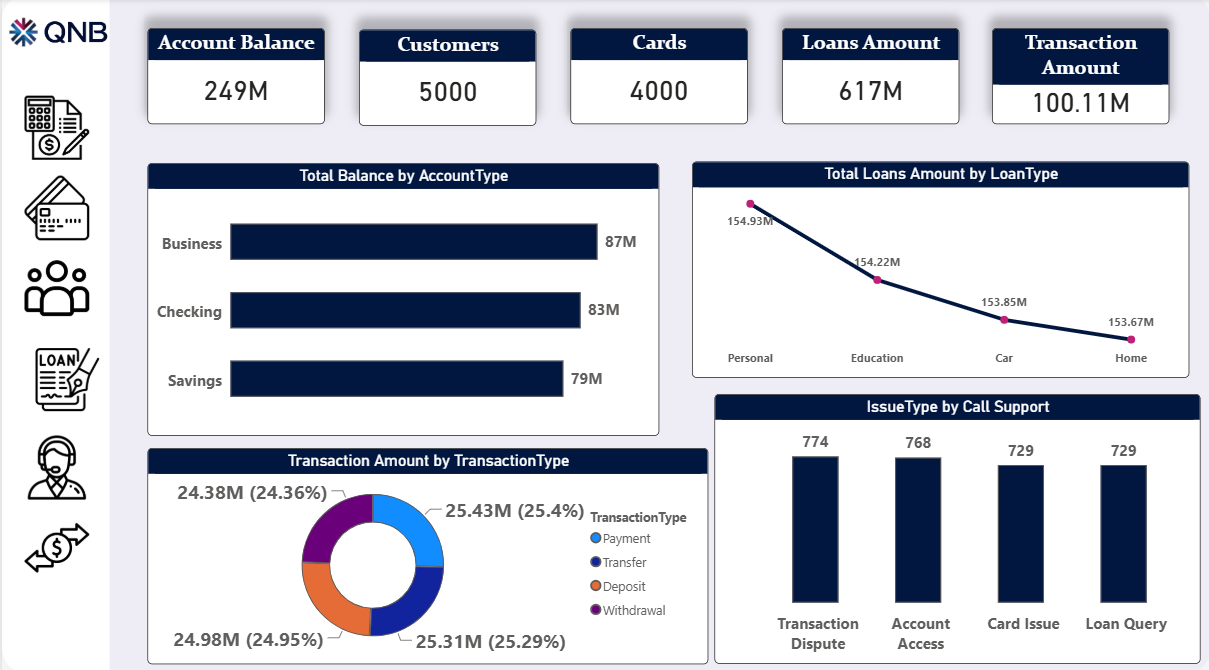

The page's visual inventory and layout, read from the dashboard file:
{"tool":"powerbi","page":{"name":"Overview","canvas":[1280,720],"ordinal":1},"visuals":[{"type":"image","box":[0,0,117.7,77.9],"z":0},{"type":"image","box":[23.9,100.2,68.4,74.8],"z":1000},{"type":"image","box":[23.9,175,68.4,95.4],"z":2000},{"type":"image","box":[23.9,270.4,68.4,74.8],"z":3000},{"type":"image","box":[23.9,448.6,68.4,98.6],"z":4000},{"type":"image","box":[23.9,536,68.4,93.8],"z":5000},{"type":"image","box":[35,359.5,68.4,89.1],"z":6000},{"type":"card","title":"Account Balance","fields":{"Values":["_Measure.Total Balance"]},"box":[154.8,31.8,187.7,101.8],"z":7000},{"type":"card","title":"Transaction Amount","fields":{"Values":["_Measure.Total Transactions Amount"]},"box":[1049.9,31.8,187.7,101.8],"z":8000},{"type":"card","title":"Loans Amount","fields":{"Values":["_Measure.Total Loans Amount"]},"box":[826.5,31.8,187.7,101.8],"z":9000},{"type":"card","title":"Cards","fields":{"Values":["_Measure.No. Cards"]},"box":[602.6,31.8,187.7,101.8],"z":10000},{"type":"card","title":"Customers","fields":{"Values":["_Measure.Total Customers"]},"box":[378.7,33.4,187.7,101.8],"z":11000},{"type":"barChart","fields":{"Category":["Accounts.AccountType"],"Y":["_Measure.Total Balance"]},"box":[154.3,175,542.4,289.5],"z":12000},{"type":"donutChart","fields":{"Category":["Transactions.TransactionType"],"Y":["Sum(Transactions.Amount)"]},"box":[154.3,477.2,594.9,229],"z":13000},{"type":"lineChart","fields":{"Y":["_Measure.Total Loans Amount"],"Category":["Loans.LoanType"]},"box":[731,174.1,527.6,229.3],"z":14000},{"type":"columnChart","title":"IssueType by Call Support","fields":{"Category":["SupportCalls.IssueType"],"Y":["_Measure.Total SupportCalls"]},"box":[755.2,420.7,515.5,286.2],"z":15000}]}

Visuals, with their boxes in screenshot pixels (x1, y1, x2, y2), scaled from the page's 1280x720 canvas onto the 1209x670 screenshot:
image: region(0, 0, 111, 72)
image: region(23, 93, 87, 163)
image: region(23, 163, 87, 252)
image: region(23, 252, 87, 321)
image: region(23, 417, 87, 509)
image: region(23, 499, 87, 586)
image: region(33, 335, 98, 417)
"Account Balance" card: region(146, 30, 324, 124)
"Transaction Amount" card: region(992, 30, 1169, 124)
"Loans Amount" card: region(781, 30, 958, 124)
"Cards" card: region(569, 30, 746, 124)
"Customers" card: region(358, 31, 535, 126)
barChart - Accounts.AccountType x _Measure.Total Balance: region(146, 163, 658, 432)
donutChart - Transactions.TransactionType x Sum(Transactions.Amount): region(146, 444, 708, 657)
lineChart - _Measure.Total Loans Amount x Loans.LoanType: region(690, 162, 1189, 375)
"IssueType by Call Support" columnChart: region(713, 391, 1200, 658)
